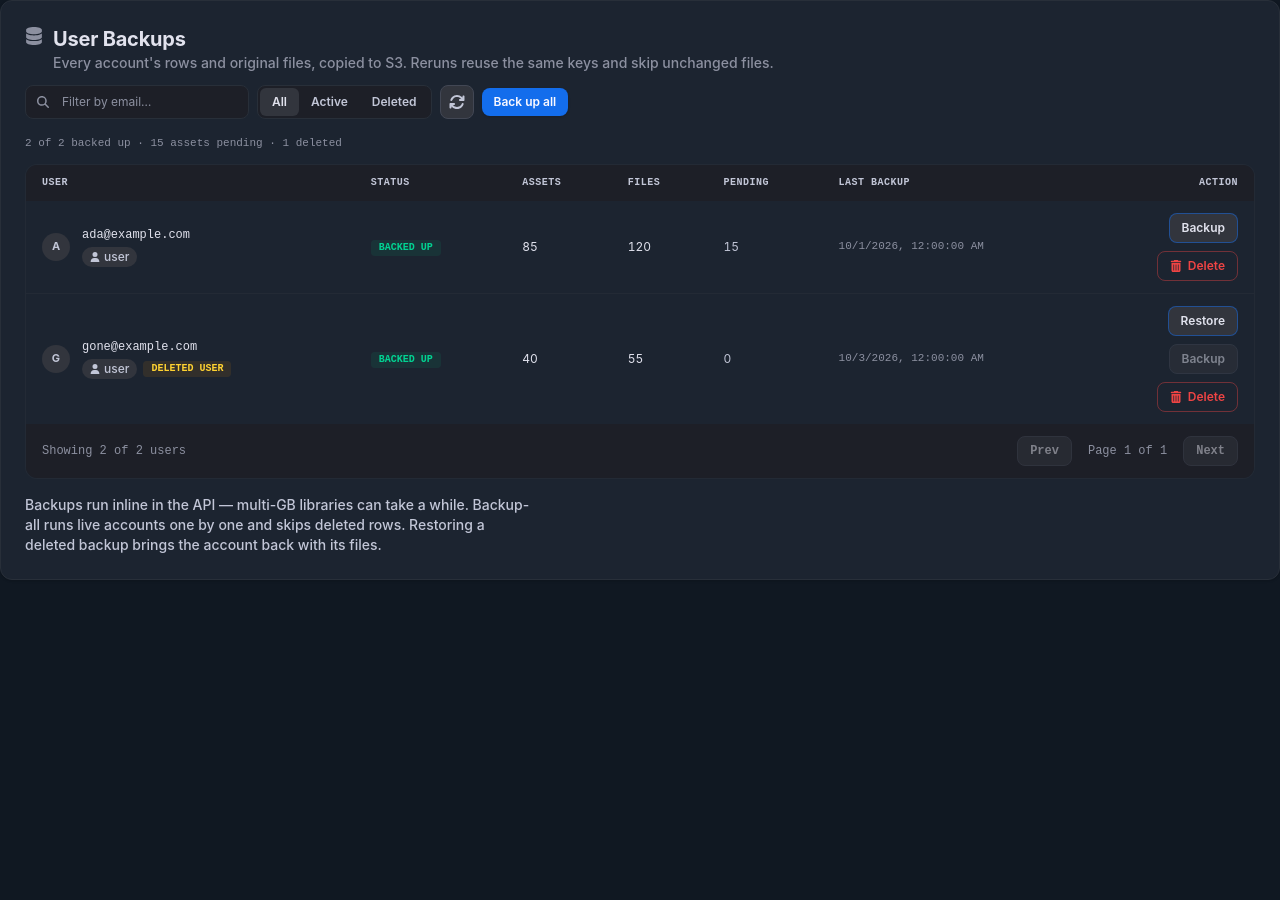
it: BackupSection orphans › warns that the backup could not be moved when the restore re-homes under a new email
The width and height of the screenshot is (1280, 900).
Expected: the text "gone@example.com" is shown, x1=82 y1=340 x2=197 y2=354
Click the button with aria-label "Restore gone@example.com" at (1203, 320), box x1=1168 y1=306 x2=1238 y2=336
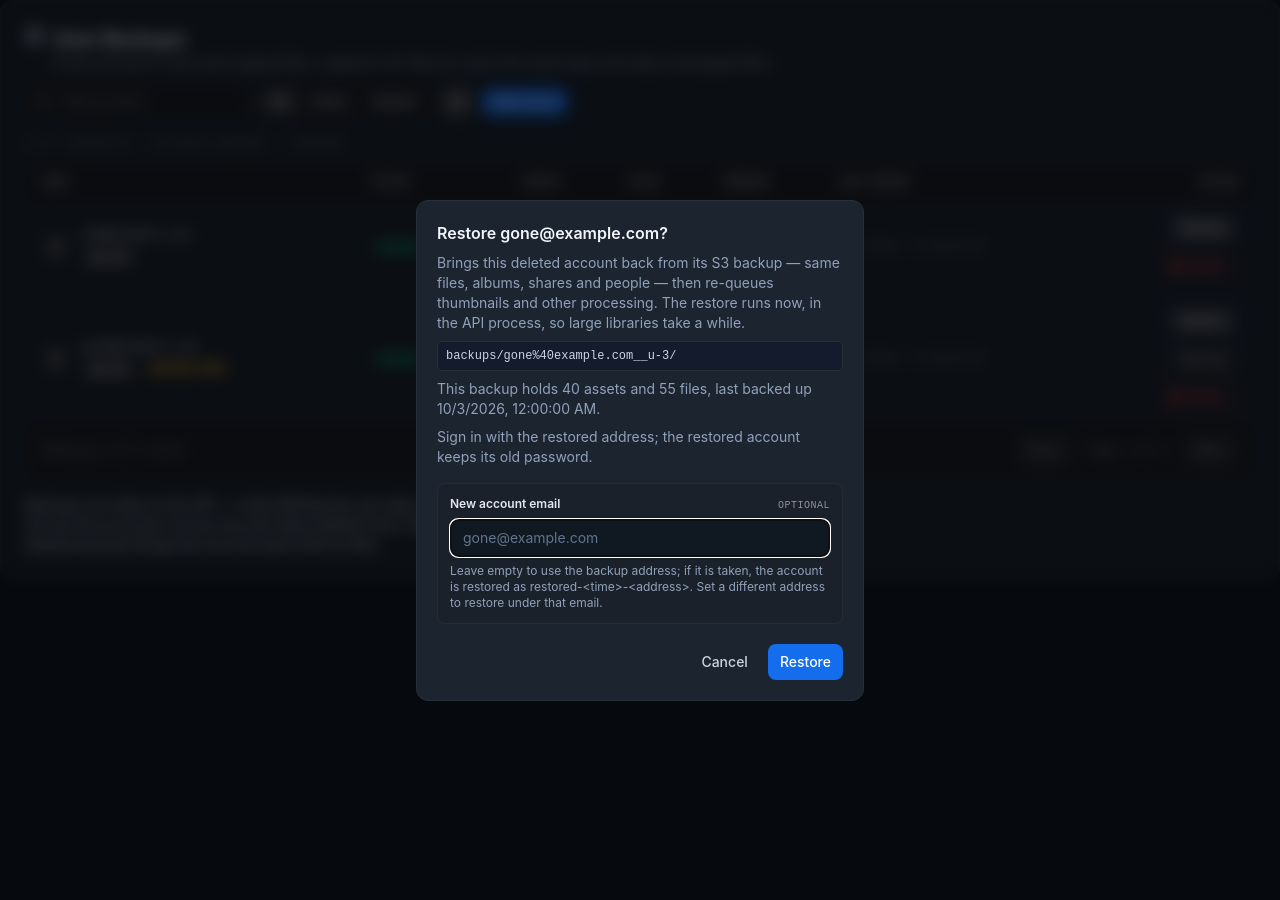
Click the button "Restore" at (805, 662), box x1=768 y1=644 x2=843 y2=680
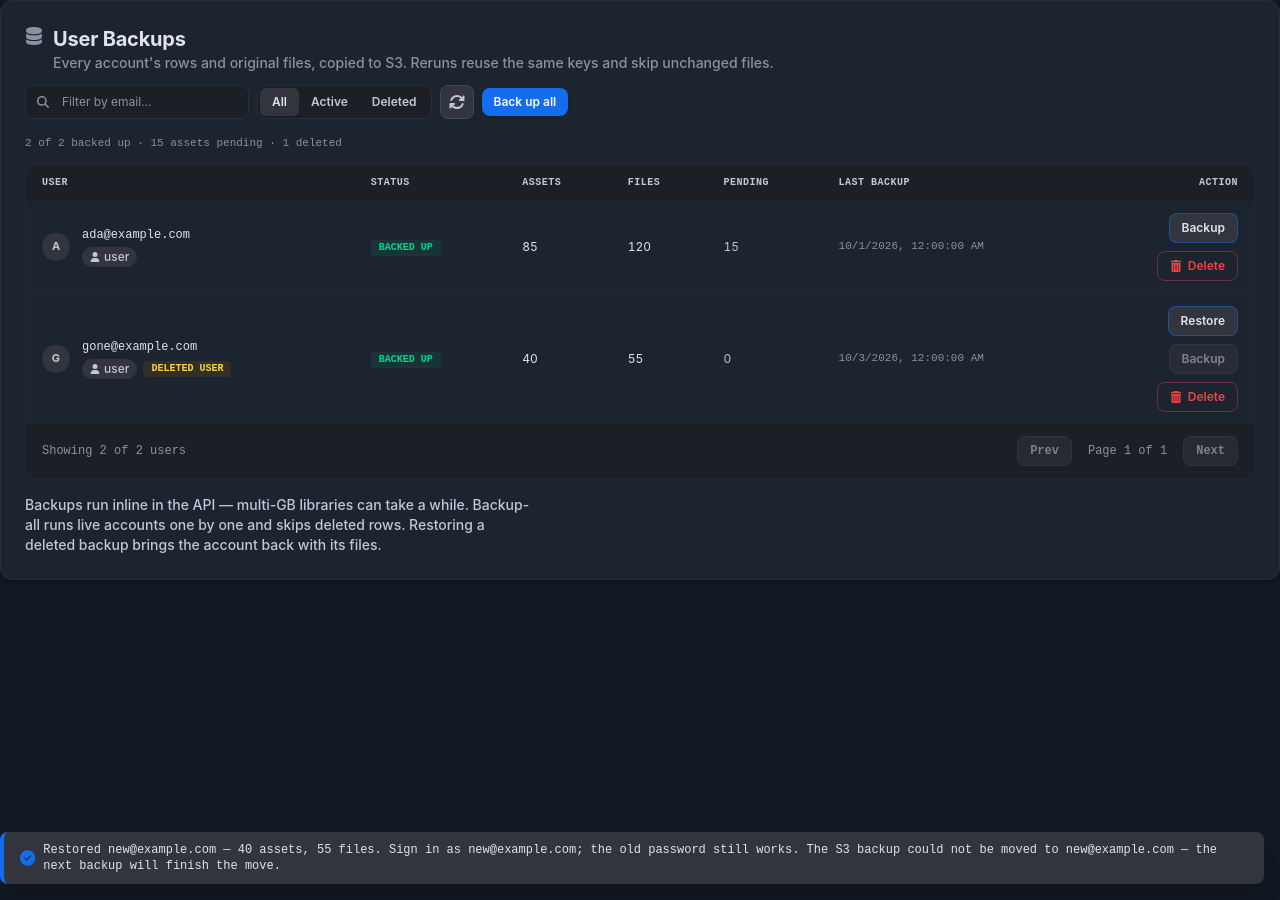
Expected: the text "Restored new@example.com — 40 assets, 55 files. Sign in as new@example.com; the old password still works. The S3 backup " is shown, x1=43 y1=843 x2=1217 y2=873
